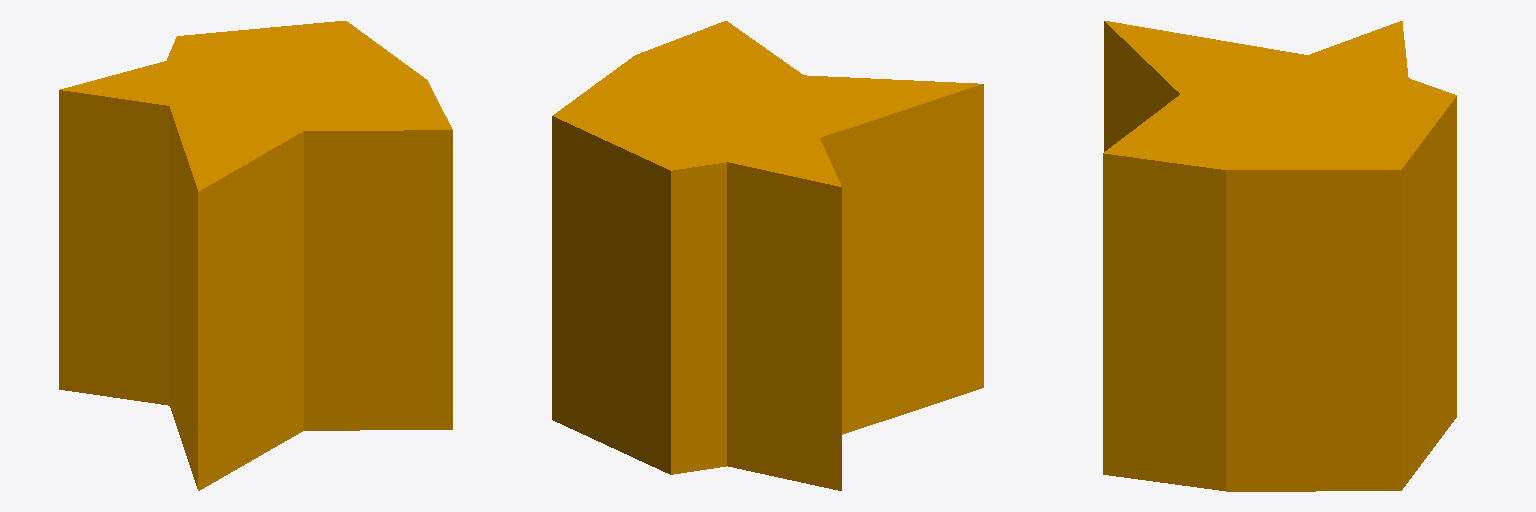
URDF robot description (object):
<?xml version="1.0"?>
<robot name="object">
  <link name="object">
    <visual>
      <origin xyz="0 0 0"/>
      <geometry>
        <mesh filename="meshes/polygon/poly_122_s.obj" scale=".03 .03 .03"/>
      </geometry>
    </visual>
    <collision>
  <origin xyz="0 0 0"/>
  <geometry>
    <mesh filename="meshes/polygon/poly_122_s_0decompose.obj" scale=".03 .03 .03"/>
<!--          <mesh filename="meshes/custom/obj0_ball.obj" scale=".05 .05 .05"/>-->
  </geometry>
</collision><collision>
  <origin xyz="0 0 0"/>
  <geometry>
    <mesh filename="meshes/polygon/poly_122_s_1decompose.obj" scale=".03 .03 .03"/>
<!--          <mesh filename="meshes/custom/obj0_ball.obj" scale=".05 .05 .05"/>-->
  </geometry>
</collision><collision>
  <origin xyz="0 0 0"/>
  <geometry>
    <mesh filename="meshes/polygon/poly_122_s_2decompose.obj" scale=".03 .03 .03"/>
<!--          <mesh filename="meshes/custom/obj0_ball.obj" scale=".05 .05 .05"/>-->
  </geometry>
</collision>

<!--    <collision>-->
<!--      <origin xyz="0 0 0"/>-->
<!--      <geometry>-->
<!--        <mesh filename="meshes/polygon/poly_122_s.obj" scale=".03 .03 .03"/>-->
<!--&lt;!&ndash;          <mesh filename="meshes/custom/obj0_ball.obj" scale=".05 .05 .05"/>&ndash;&gt;-->
<!--      </geometry>-->
<!--    </collision>-->
    <inertial>
      <density value="1000.0"/>
    </inertial>
  </link>
</robot>

--- Facts derived from the render (not from the file) ---
3 views of the same robot in one strip: view 1: azimuth 30°, elevation 25°; view 2: azimuth 150°, elevation 25°; view 3: azimuth 270°, elevation 25° (orthographic).
Robot: object — 1 links, 0 joints (none); root link object; default pose: every joint at zero.
Links seen in each view (by area): view 1: object; view 2: object; view 3: object.
Boxes of the visible links, <box> form: object: <box>59,21,452,490</box>; object: <box>552,21,983,490</box>; object: <box>1103,21,1456,491</box>.
Bounding box of the posed robot: 0.06 × 0.06 × 0.06 m (x, y, z).
1 mesh visuals loaded from 1 distinct referenced files (1 OBJ).
